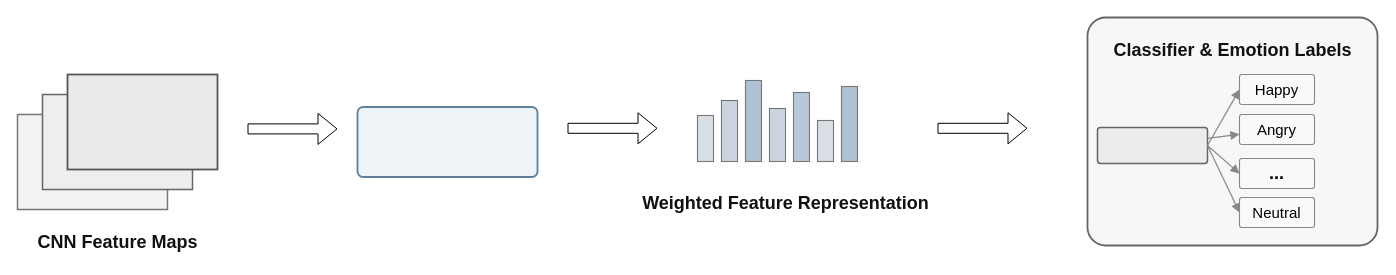
This 1396x275 diagram has some shape labels left out. Each missing label, with the centre of its shape:
FC + Softmax: (x=1152, y=145)
Lightweight Attention Module: (x=447, y=141)
